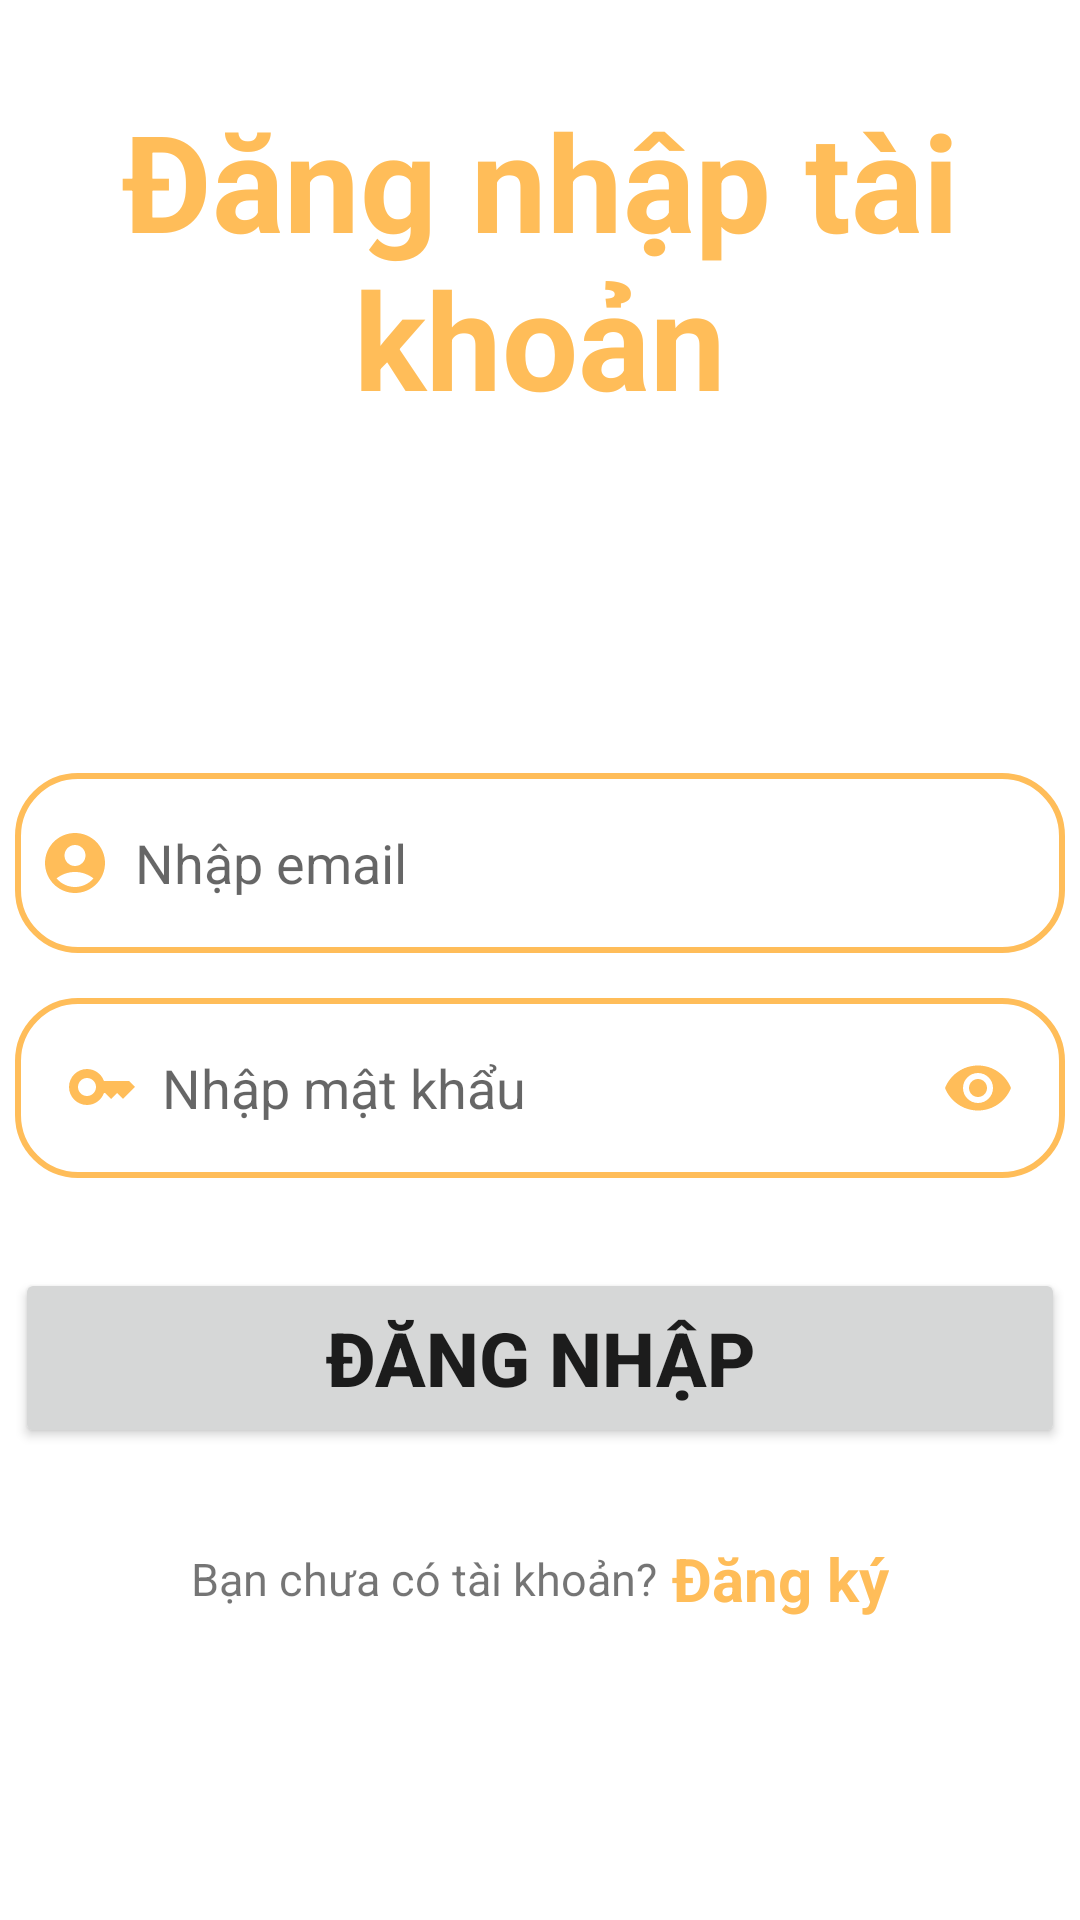

Icons on this 1080px x 1920px Android screen, each with the point to tap as (x,y):
visibility: (978,1088)
